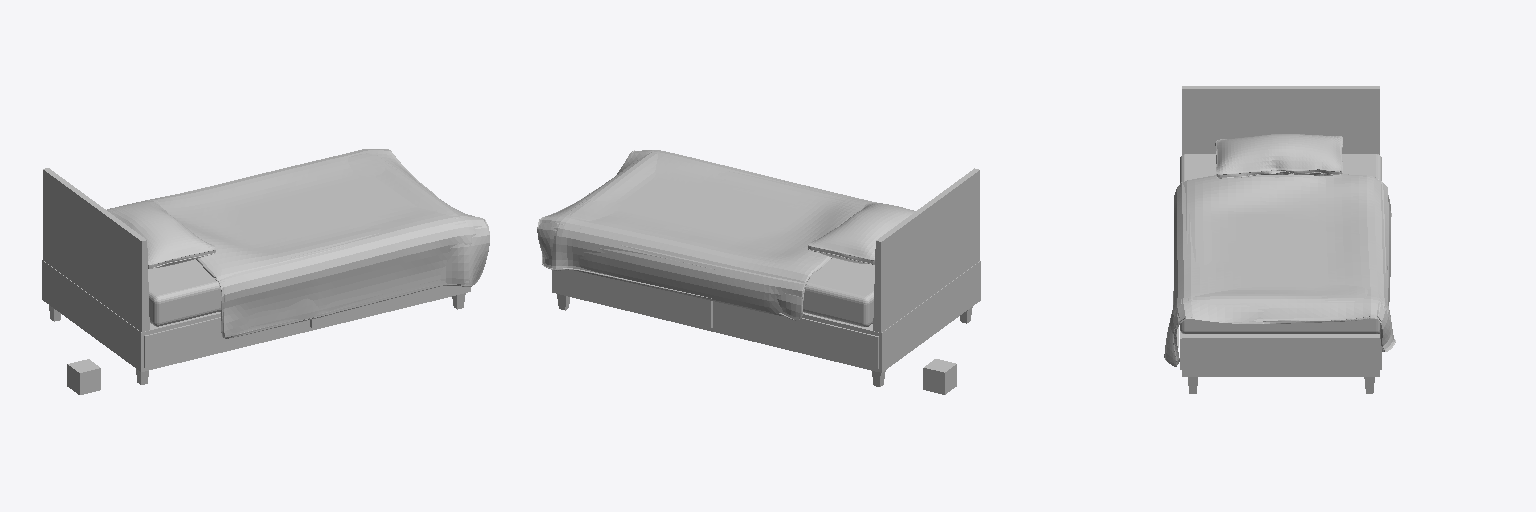
Rendered from bed4.obj.
3 views of the same model, side by side, from view 1: azimuth 30°, elevation 25°; view 2: azimuth 150°, elevation 25°; view 3: azimuth 270°, elevation 25° (orthographic).
Visible parts, largest first — view 1: pCube7, pCube1, pCube4, pCube5, pCube3; view 2: pCube7, pCube1, pCube4, pCube5, pCube3; view 3: pCube7, pCube4, pCube1, pCube5, pCube3.
Part boxes in pixels (x1,y1,x2,y2): pCube7: (141,149,489,338); pCube1: (42,260,470,371); pCube4: (43,168,149,331); pCube5: (67,200,216,394); pCube3: (148,259,221,326); pCube7: (537,150,876,320); pCube1: (552,261,980,372); pCube4: (873,168,979,332); pCube5: (808,203,956,394); pCube3: (803,258,874,326); pCube7: (1164,174,1395,366); pCube4: (1182,86,1379,154); pCube1: (1180,331,1381,376); pCube5: (1215,134,1342,178); pCube3: (1180,154,1381,333).
Size of the model in its own units: 17.12 by 8.08 by 9.41.